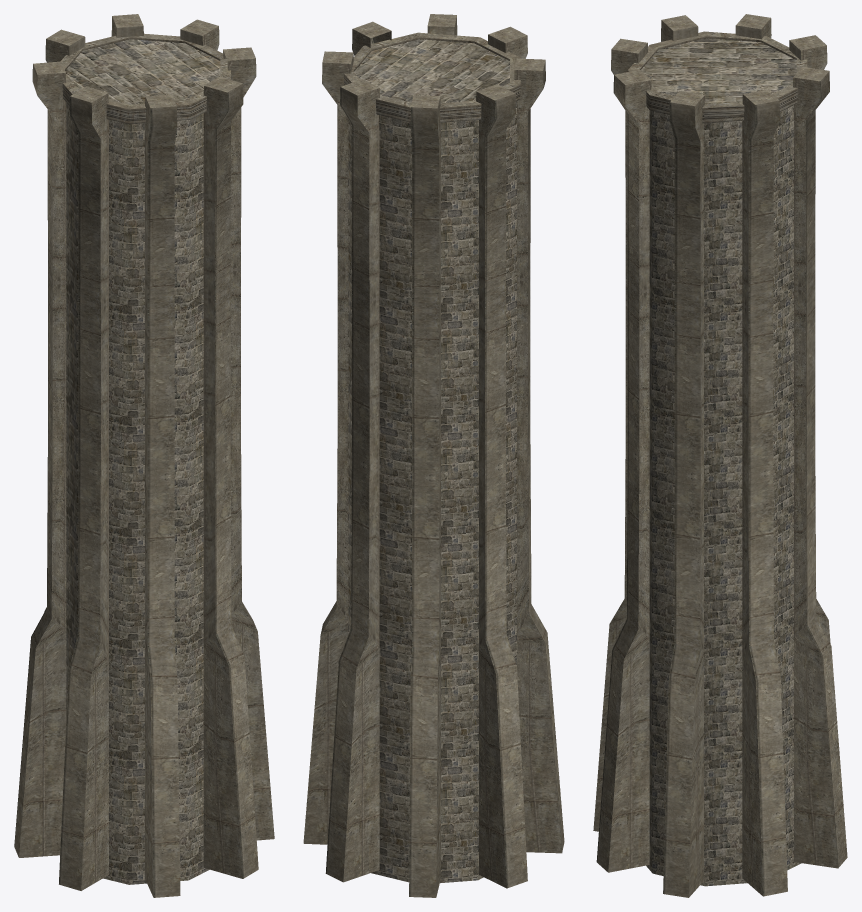
Rendered from SM_EN_2005_qiang03.FBX.
3 views of the same model, side by side, from view 1: azimuth 30°, elevation 25°; view 2: azimuth 150°, elevation 25°; view 3: azimuth 270°, elevation 25° (orthographic).
Parts seen in each view (by area): view 1: SM_EN_2005_qiang03b, SM_EN_2005_qiang03a; view 2: SM_EN_2005_qiang03b, SM_EN_2005_qiang03a; view 3: SM_EN_2005_qiang03b, SM_EN_2005_qiang03a.
Part boxes in pixels (x1,y1,x2,y2): SM_EN_2005_qiang03b: [14, 14, 274, 897]; SM_EN_2005_qiang03a: [65, 39, 220, 884]; SM_EN_2005_qiang03b: [303, 14, 564, 897]; SM_EN_2005_qiang03a: [348, 39, 516, 883]; SM_EN_2005_qiang03b: [593, 14, 847, 897]; SM_EN_2005_qiang03a: [641, 38, 801, 886].
Bounding box in the file's own units: 344 × 1178 × 344.
